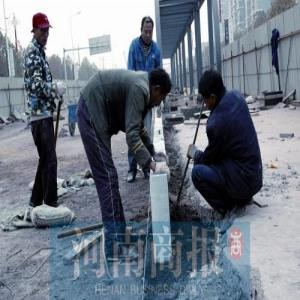none: (197, 68, 228, 110), (148, 65, 174, 110), (139, 17, 156, 47)
red: (31, 12, 53, 46)
